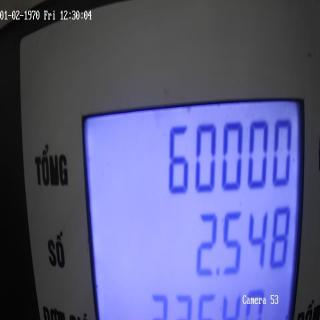screen: (78, 87, 307, 320)
